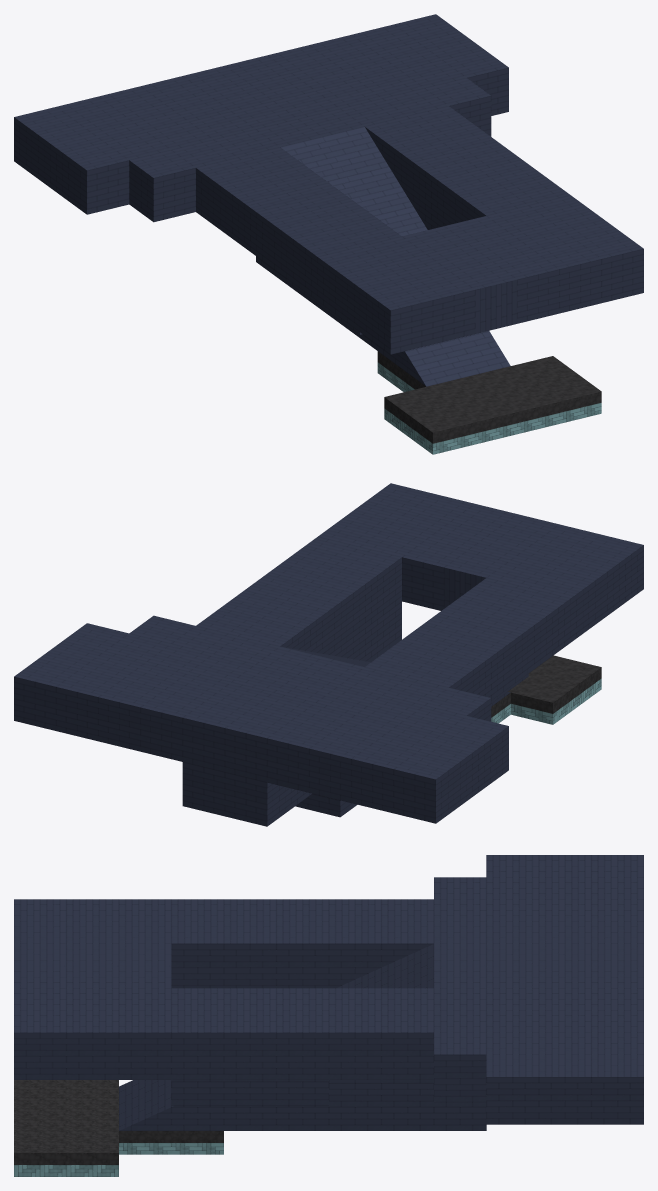
Rendered from gridmap_castle_test.gltf.
3 renders of one model, top to bottom at view 1: azimuth 30°, elevation 25°; view 2: azimuth 150°, elevation 25°; view 3: azimuth 270°, elevation 25°, orthographic. The views are drawn at different scales.
Visible parts, largest first — view 1: blockA0298, blockA0299, blockA0218, blockA0224, blockA0227, blockA0231, blockA0235, blockA0272, floorA02, blockA0215, blockA0217, blockA025 (+78 smaller); view 2: blockA0291, blockA0244, blockA0287, blockA02, blockA0262, blockA0293, blockA027, blockA0236, blockA0264, blockA0289, blockA0225, blockA0260 (+71 smaller); view 3: blockA0289, blockA0297, blockA0290, blockA02100, blockA0232, blockA0233, blockA0234, blockA0235, blockA0248, blockA0249, blockA0250, blockA0251 (+86 smaller).
Part boxes in pixels (left/top/right/bottom): blockA0298: left=62, top=142, right=129, bottom=214; blockA0299: left=129, top=150, right=195, bottom=222; blockA0218: left=366, top=282, right=432, bottom=354; blockA0224: left=409, top=272, right=475, bottom=344; blockA0227: left=493, top=251, right=559, bottom=323; blockA0231: left=535, top=241, right=601, bottom=313; blockA0235: left=577, top=231, right=643, bottom=302; blockA0272: left=451, top=262, right=517, bottom=333; floorA02: left=408, top=404, right=475, bottom=454; blockA0215: left=293, top=229, right=359, bottom=300; blockA0217: left=342, top=264, right=408, bottom=336; blockA025: left=196, top=157, right=261, bottom=229; blockA0291: left=393, top=751, right=460, bottom=823; blockA0244: left=98, top=679, right=164, bottom=751; blockA0287: left=56, top=669, right=122, bottom=741; blockA02: left=309, top=731, right=375, bottom=802; blockA0262: left=225, top=710, right=290, bottom=782; blockA0293: left=351, top=741, right=417, bottom=813; blockA027: left=267, top=720, right=332, bottom=792; blockA0236: left=140, top=690, right=206, bottom=761; blockA0264: left=182, top=700, right=248, bottom=772; blockA0289: left=14, top=659, right=80, bottom=730; blockA0225: left=402, top=539, right=468, bottom=610; blockA0260: left=225, top=772, right=291, bottom=826; blockA0289: left=591, top=1054, right=643, bottom=1124; blockA0297: left=486, top=1054, right=538, bottom=1124; blockA0290: left=539, top=1054, right=591, bottom=1124; blockA02100: left=434, top=1032, right=486, bottom=1102; blockA0232: left=171, top=1010, right=223, bottom=1079; blockA0233: left=119, top=1010, right=171, bottom=1079; blockA0234: left=66, top=1010, right=118, bottom=1079; blockA0235: left=14, top=1010, right=66, bottom=1079; blockA0248: left=381, top=1010, right=433, bottom=1079; blockA0249: left=329, top=1010, right=381, bottom=1079; blockA0250: left=276, top=1010, right=328, bottom=1079; blockA0251: left=224, top=1010, right=276, bottom=1079.
Bounding box in the file's own units: 10 × 3.5 × 12.
Materials: 3 (3 with a texture image).
